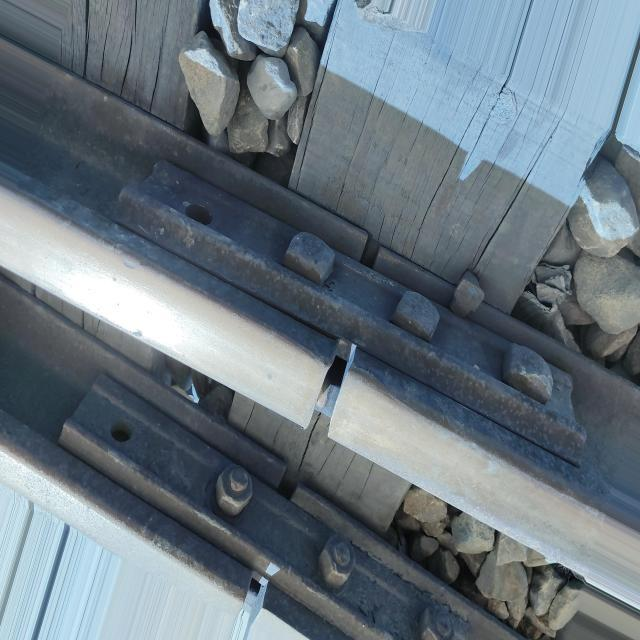Defective Joint: (69, 105, 600, 582), (24, 346, 511, 640)
